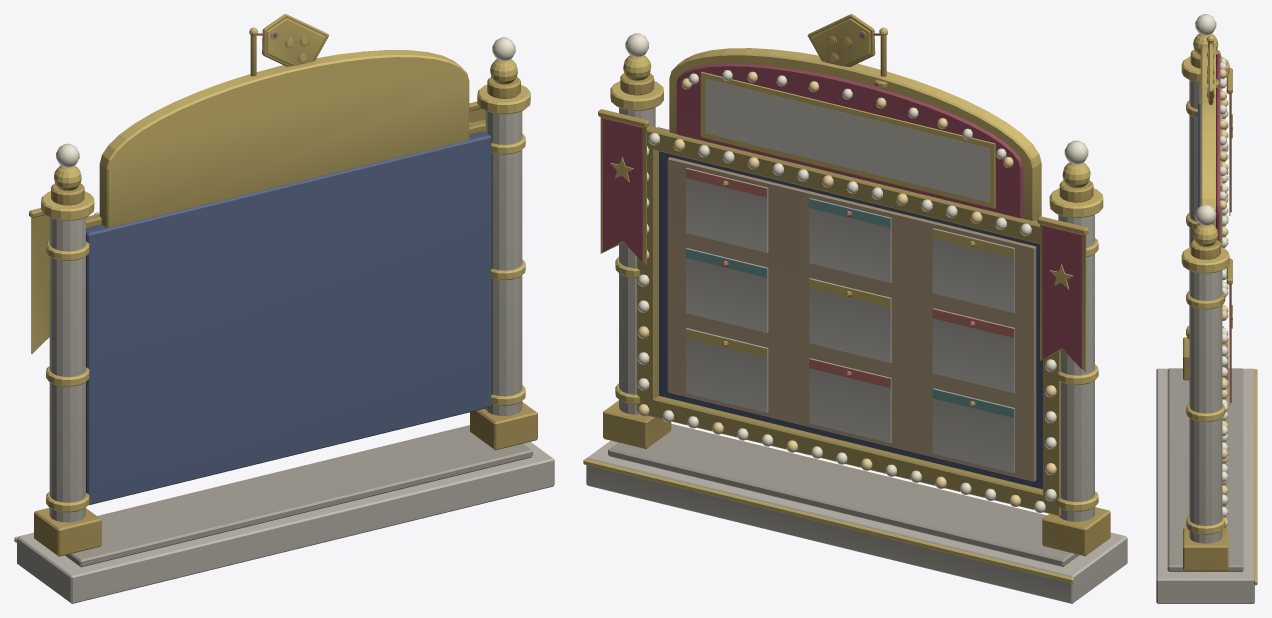
The model's file is auction_board.glb.
3 views of the same model, side by side, from view 1: azimuth 30°, elevation 25°; view 2: azimuth 150°, elevation 25°; view 3: azimuth 270°, elevation 25° (orthographic). The views are drawn at different scales.
Visible parts, largest first — view 1: auction_board; view 2: auction_board; view 3: auction_board.
Part boxes in pixels (x1=…): auction_board: x1=14, y1=14, x2=554, y2=603; auction_board: x1=583, y1=14, x2=1127, y2=603; auction_board: x1=1156, y1=14, x2=1257, y2=603.
Bounding box in the file's own units: 3.97 × 3.97 × 0.8.
